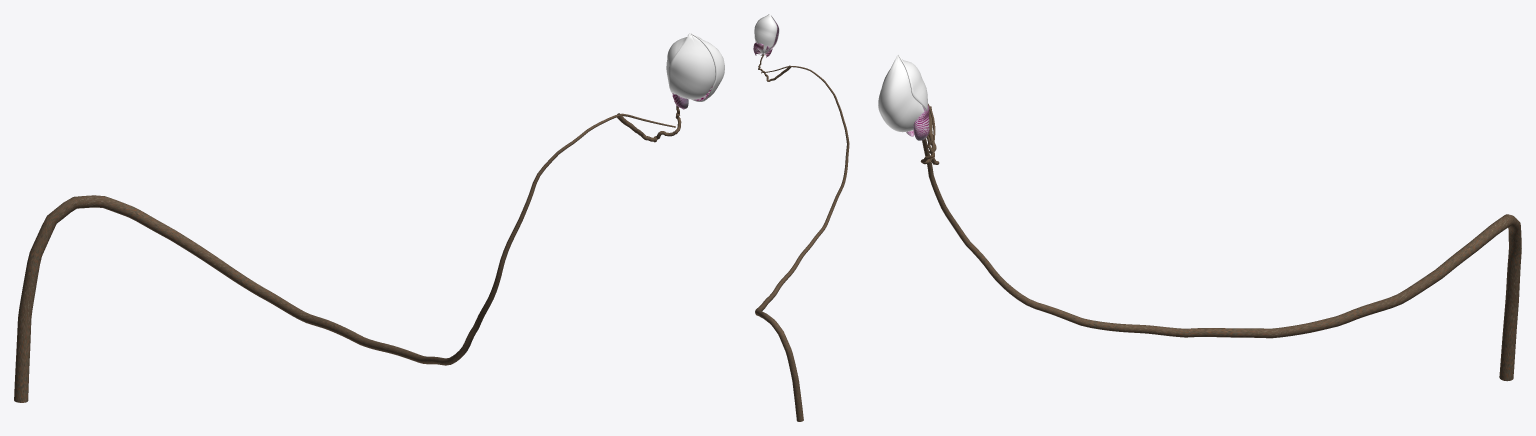
File: BUNGA - KIRI.glb
3 views of the same model, side by side, from view 1: azimuth 30°, elevation 25°; view 2: azimuth 150°, elevation 25°; view 3: azimuth 270°, elevation 25° (orthographic). The views are drawn at different scales.
Parts seen in each view (by area): view 1: GN Instance (×2); view 2: GN Instance (×2); view 3: GN Instance (×2).
Boxes of the visible parts, x1,y1,x2,y2 form: GN Instance (×2): [14, 33, 724, 402]; GN Instance (×2): [753, 14, 849, 421]; GN Instance (×2): [878, 55, 1521, 381].
Bounding box in the file's own units: 2.94 × 3.5 × 4.08.
8 materials, 4 textured.
